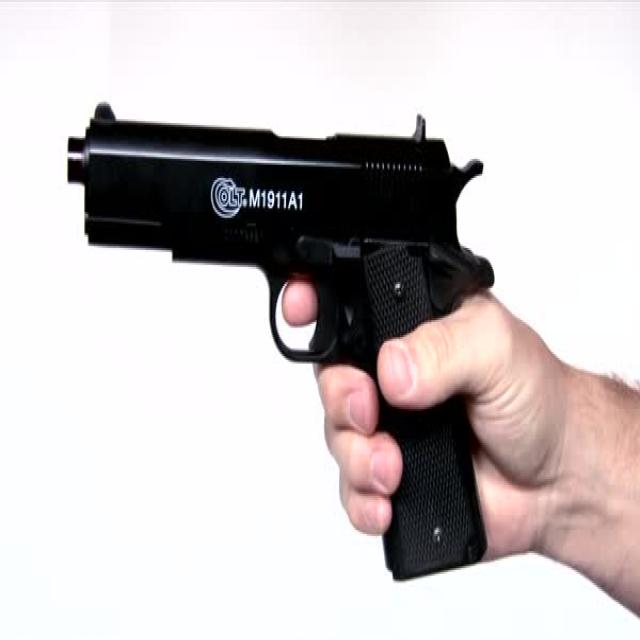HandGun: (68, 102, 497, 583)
